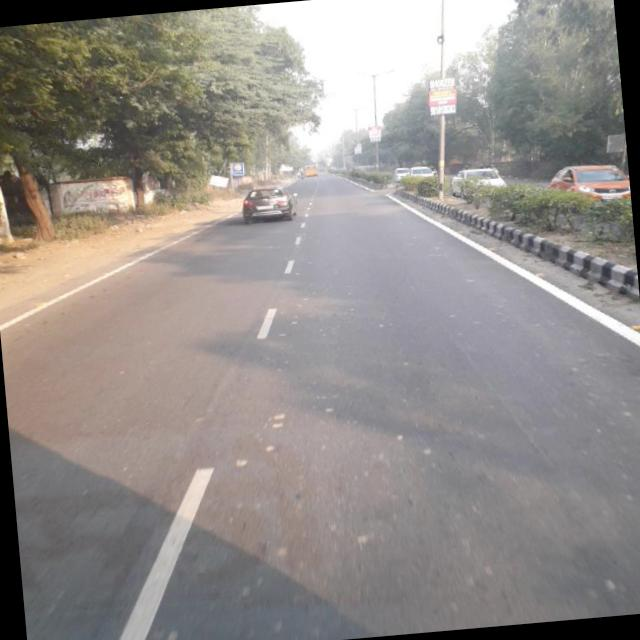crack: (398, 262, 590, 538)
